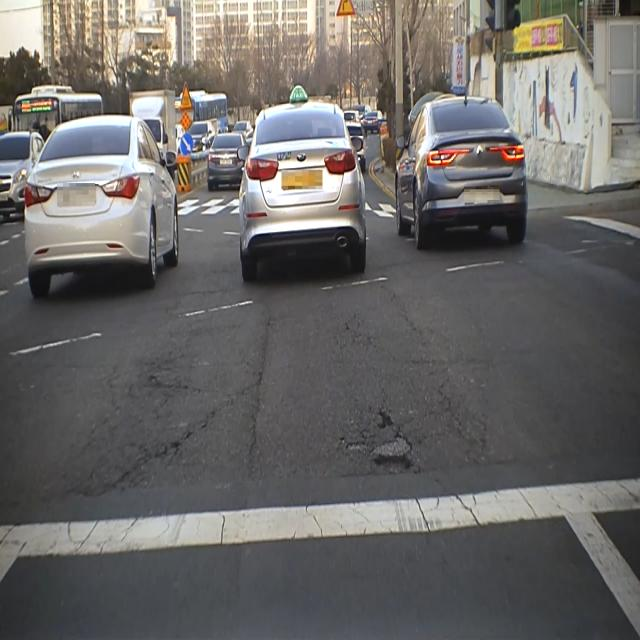Pothole: (329, 399, 419, 481)
